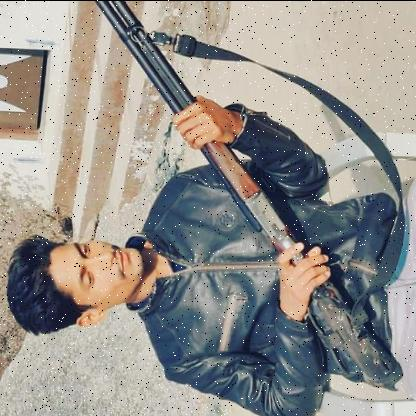rifle: (95, 1, 407, 393)
